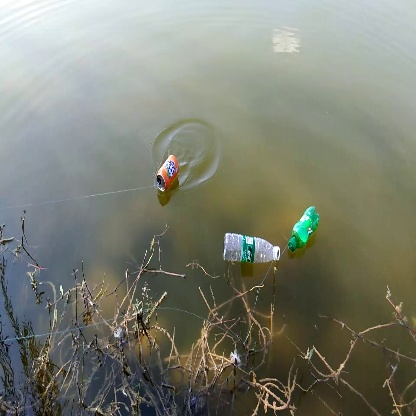bottle: (224, 233, 282, 265), (289, 207, 323, 254), (153, 151, 185, 197)
